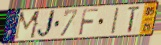7: (60, 9, 79, 39)
F: (77, 8, 100, 37)
I: (110, 6, 121, 36)
J: (35, 9, 57, 40)
M: (12, 10, 42, 42)
T: (126, 5, 142, 35)
